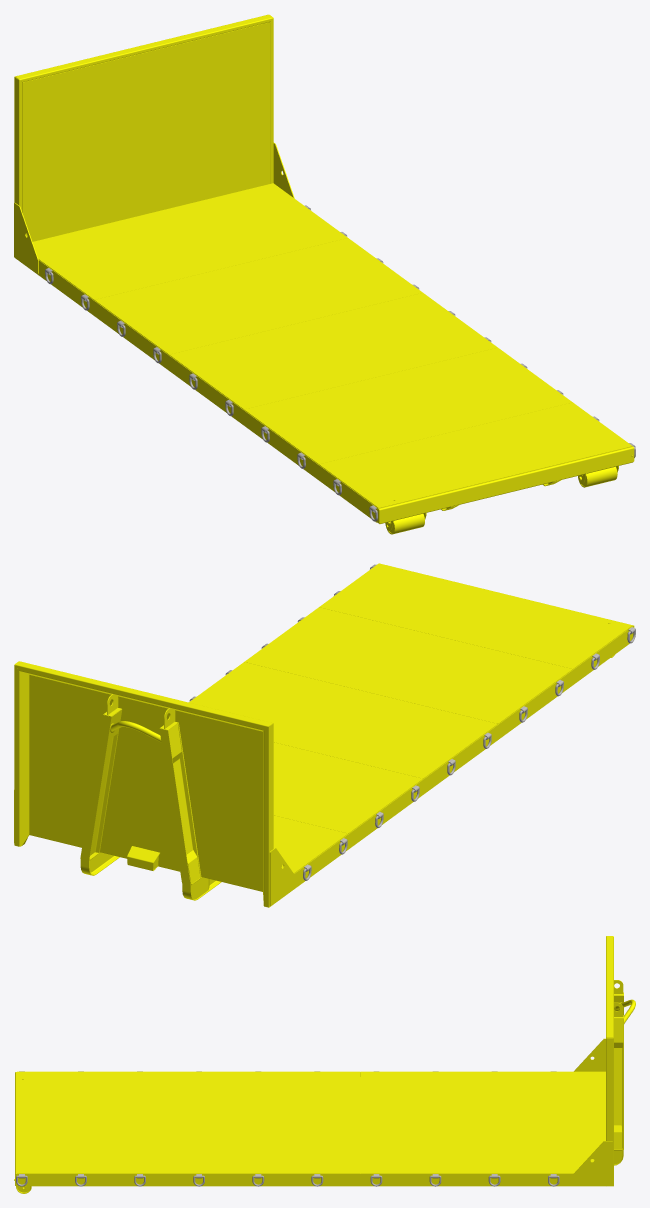
3 views of the same model, one above another, from view 1: azimuth 30°, elevation 25°; view 2: azimuth 150°, elevation 25°; view 3: azimuth 270°, elevation 25° (orthographic). The views are drawn at different scales.
Parts seen in each view (by area): view 1: Solid1 (×10), Solid2; view 2: Solid1 (×15), Solid2 (×2); view 3: Solid1 (×10), Solid2.
Boxes of the visible parts, x1,y1,x2,y2 form: Solid1 (×10): [14, 14, 634, 523]; Solid2: [19, 260, 378, 523]; Solid1 (×15): [14, 563, 632, 907]; Solid2 (×2): [159, 626, 633, 903]; Solid1 (×10): [17, 936, 623, 1186]; Solid2: [15, 1173, 605, 1186].
Size of the model in its own units: 2.52 by 1.82 by 6.31.
